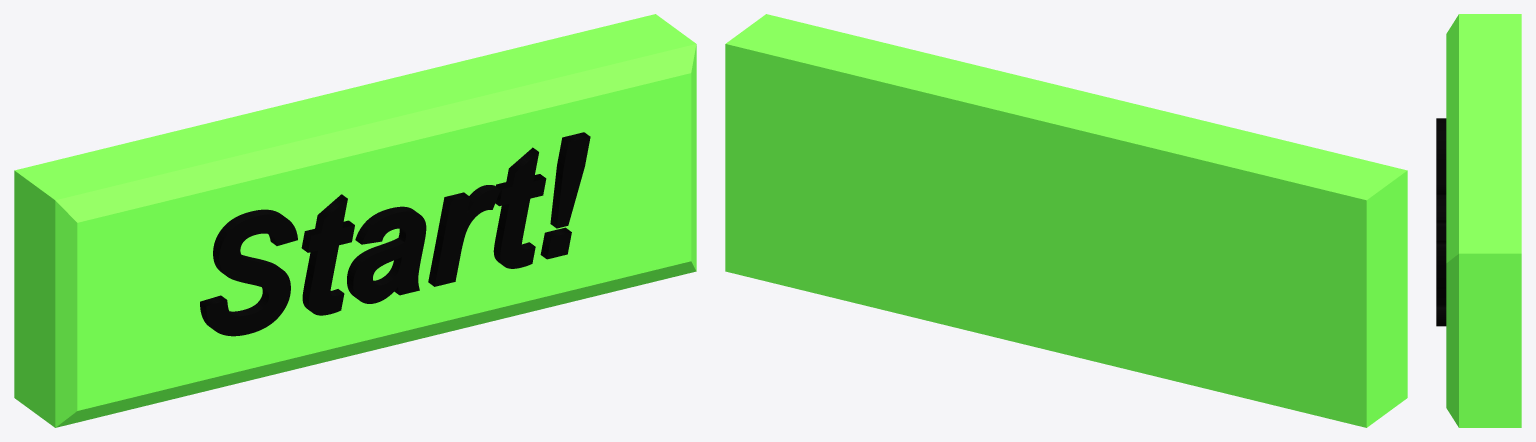
The model's file is Start_button_2.fbx.
3 views of the same model, side by side, from view 1: azimuth 30°, elevation 25°; view 2: azimuth 150°, elevation 25°; view 3: azimuth 270°, elevation 25° (orthographic). The views are drawn at different scales.
Parts seen in each view (by area): view 1: Start_button2; view 2: Start_button2; view 3: Start_button2.
Boxes of the visible parts, x1,y1,x2,y2 form: Start_button2: (14, 14, 696, 427); Start_button2: (725, 14, 1407, 427); Start_button2: (1436, 14, 1521, 427).
Size of the model in its own units: 555 by 188 by 83.27.
